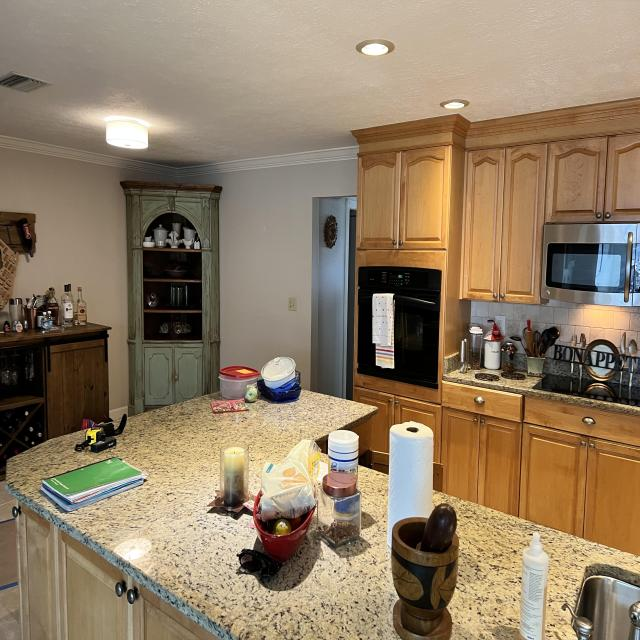Appliance_Microwave: (542, 221, 640, 309)
Appliance_Oven: (357, 263, 444, 386)
Appliance_Sink: (575, 568, 640, 640)
Appliance_Stove: (542, 375, 640, 406)
Cabinet_Flat: (442, 383, 640, 447)
Cabinet_Raised_Panel: (352, 99, 640, 365), (353, 374, 640, 556), (15, 504, 232, 640)
Countertop_Granite: (5, 392, 401, 640), (432, 492, 640, 640), (444, 369, 640, 416)
